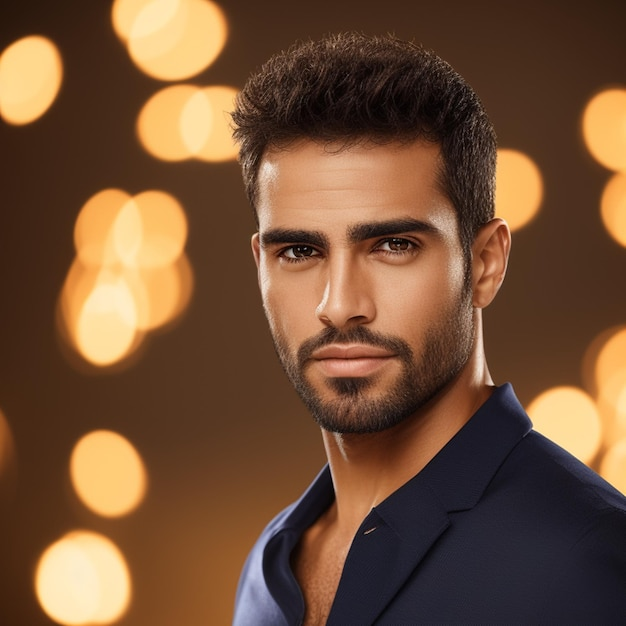young: (218, 24, 515, 455)
